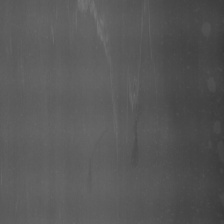silk_spot: (108, 68, 125, 142), (127, 61, 142, 110), (95, 17, 115, 51), (70, 2, 97, 19)
